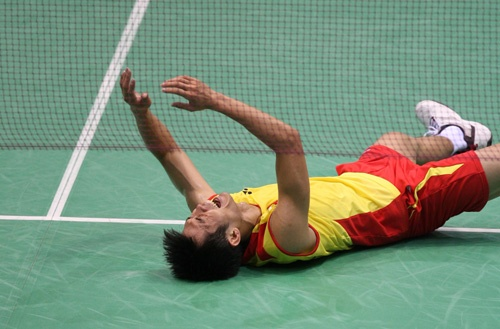falling: (99, 47, 500, 286)
